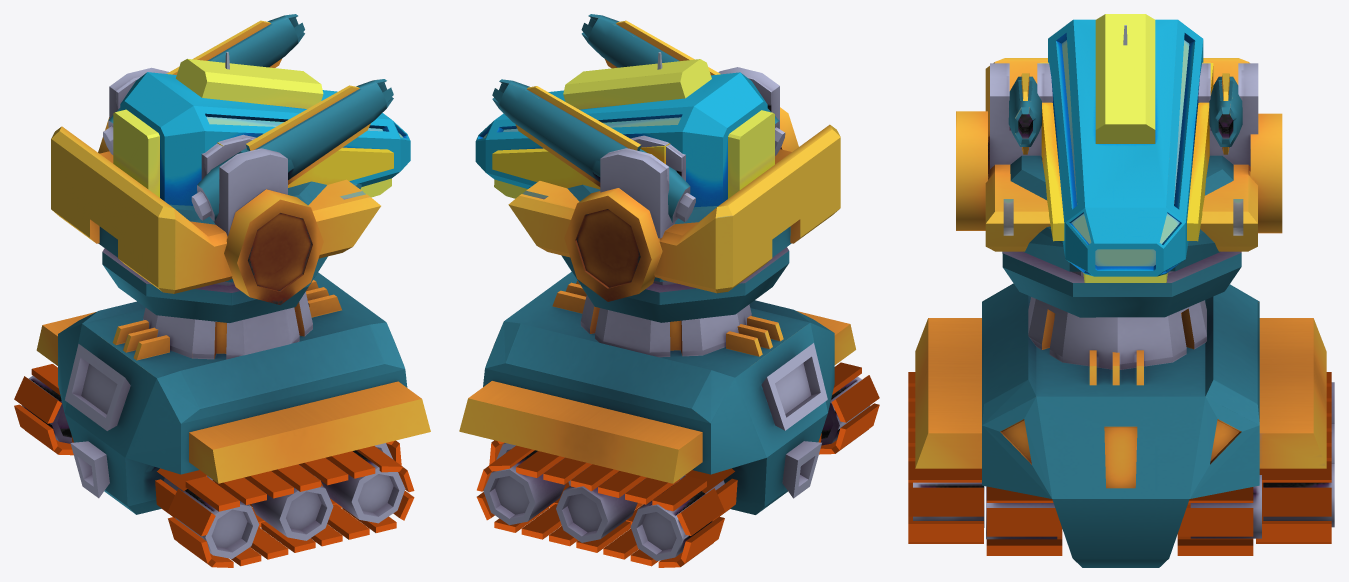
File: Player_Idle_2_Upgrade18.obj
The picture shows the model from 3 angles, left to right: view 1: azimuth 30°, elevation 25°; view 2: azimuth 150°, elevation 25°; view 3: azimuth 270°, elevation 25°; orthographic projection. The views are drawn at different scales.
Parts seen in each view (by area): view 1: Object008, Box020, Object014, Box018, Box019, Box017; view 2: Object008, Object014, Box019, Box018, Box020, Box016; view 3: Object008, Box020, Box019, Box016, Box017, Object014, Box018, Box009.
Boxes of the visible parts, bbox=[...] form: Object008: bbox=[36, 58, 430, 514]; Box020: bbox=[168, 446, 414, 567]; Object014: bbox=[103, 14, 393, 221]; Box018: bbox=[21, 376, 405, 558]; Box019: bbox=[14, 364, 73, 455]; Box017: bbox=[155, 440, 401, 527]; Object008: bbox=[459, 59, 855, 514]; Object014: bbox=[492, 14, 785, 222]; Box019: bbox=[476, 445, 724, 567]; Box018: bbox=[483, 376, 870, 560]; Box020: bbox=[819, 362, 879, 454]; Box016: bbox=[489, 440, 737, 524]; Object008: bbox=[915, 14, 1326, 567]; Box020: bbox=[908, 372, 983, 543]; Box019: bbox=[1256, 372, 1331, 543]; Box016: bbox=[1177, 487, 1253, 555]; Box017: bbox=[986, 486, 1062, 555]; Object014: bbox=[1008, 73, 1242, 154]; Box018: bbox=[913, 382, 1334, 527]; Box009: bbox=[986, 475, 1261, 539].
Bounding box in the file's own units: 65.77 × 84.86 × 68.55.
Materials: 5 (3 with a texture image).
